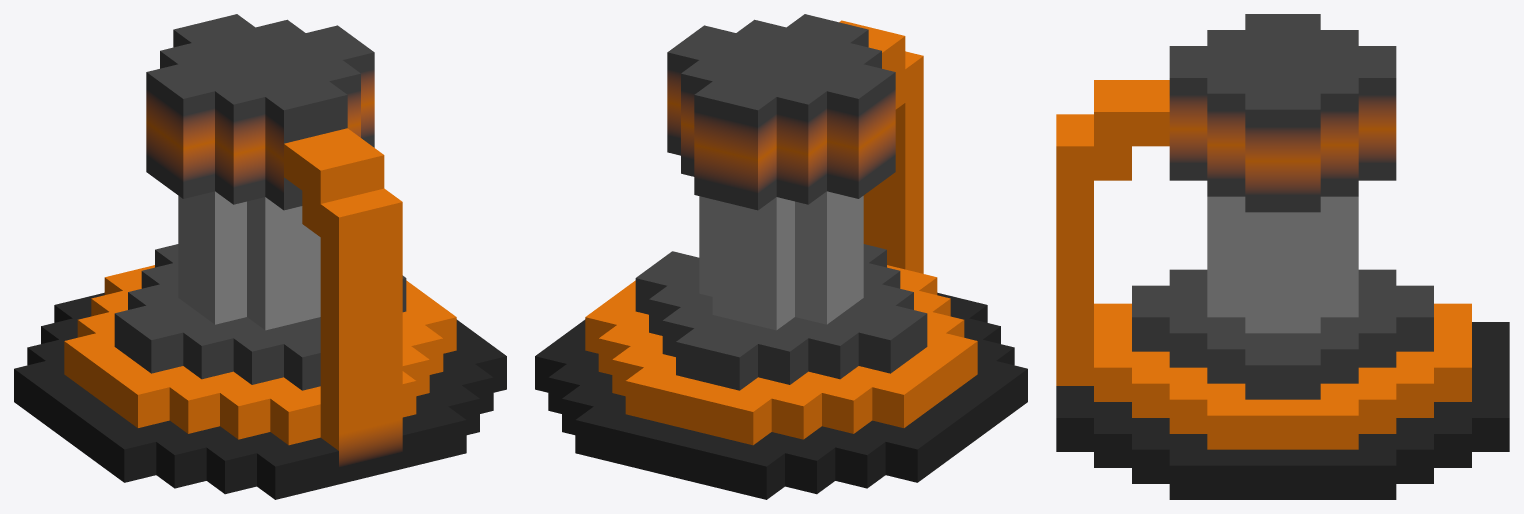
The model's file is MachineGun_Base.dae.
The picture shows the model from 3 angles, left to right: view 1: azimuth 30°, elevation 25°; view 2: azimuth 150°, elevation 25°; view 3: azimuth 270°, elevation 25°; orthographic projection. The views are drawn at different scales.
Parts seen in each view (by area): view 1: Matrix; view 2: Matrix; view 3: Matrix.
Boxes of the visible parts, x1=… form: Matrix: x1=14, y1=14, x2=506, y2=499; Matrix: x1=535, y1=14, x2=1027, y2=499; Matrix: x1=1056, y1=14, x2=1509, y2=499.
Bounding box in the file's own units: 12 × 10 × 12.
